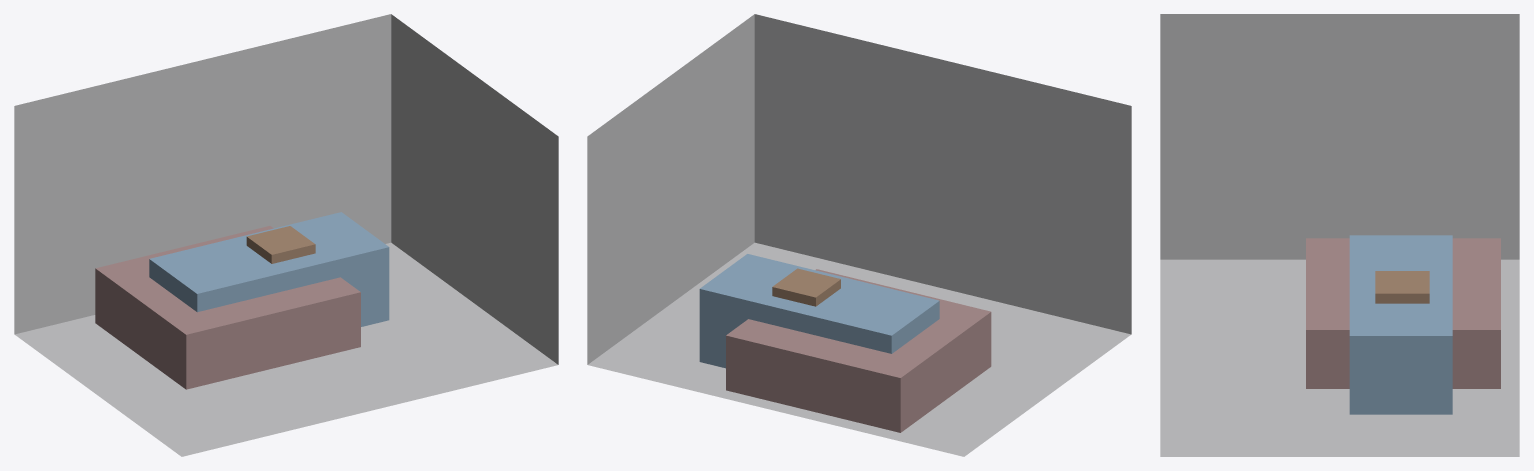
The model's file is optimised_layout.glb.
3 views of the same model, side by side, from view 1: azimuth 30°, elevation 25°; view 2: azimuth 150°, elevation 25°; view 3: azimuth 270°, elevation 25° (orthographic). The views are drawn at different scales.
Visible parts, largest first — view 1: room, bed, couch, chair; view 2: room, bed, couch, chair; view 3: room, couch, bed, chair.
Boxes of the visible parts, x1=… form: room: x1=14, y1=14, x2=558, y2=456; bed: x1=95, y1=226, x2=360, y2=389; couch: x1=149, y1=212, x2=389, y2=326; chair: x1=246, y1=226, x2=315, y2=263; room: x1=587, y1=14, x2=1131, y2=456; bed: x1=726, y1=269, x2=991, y2=432; couch: x1=699, y1=254, x2=939, y2=368; chair: x1=772, y1=268, x2=840, y2=306; room: x1=1160, y1=14, x2=1519, y2=456; couch: x1=1349, y1=235, x2=1452, y2=414; bed: x1=1306, y1=238, x2=1500, y2=388; chair: x1=1375, y1=271, x2=1429, y2=303.
Bounding box in the file's own units: 4.31 × 2.5 × 3.32.
